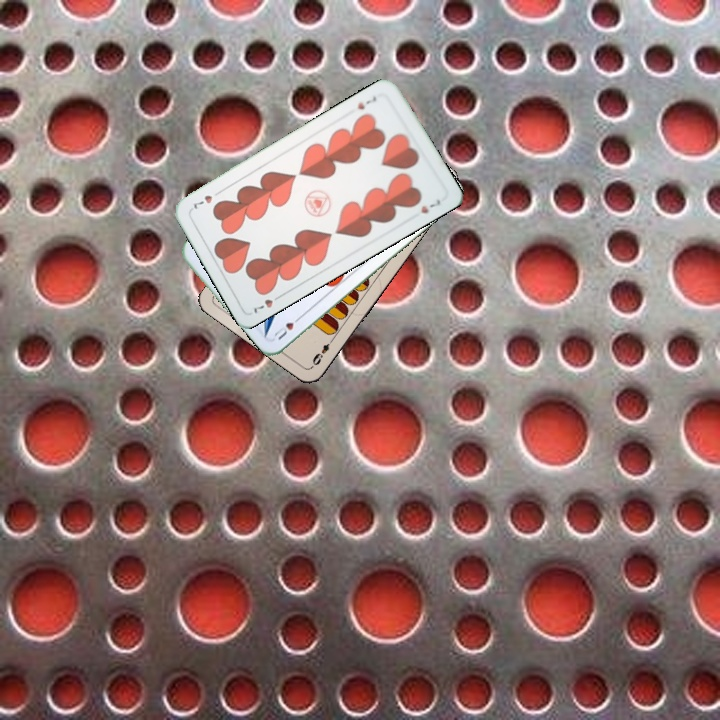E9: (308, 334, 336, 368)
H7: (250, 290, 285, 316), (353, 92, 379, 112)
HU: (269, 311, 305, 343)
